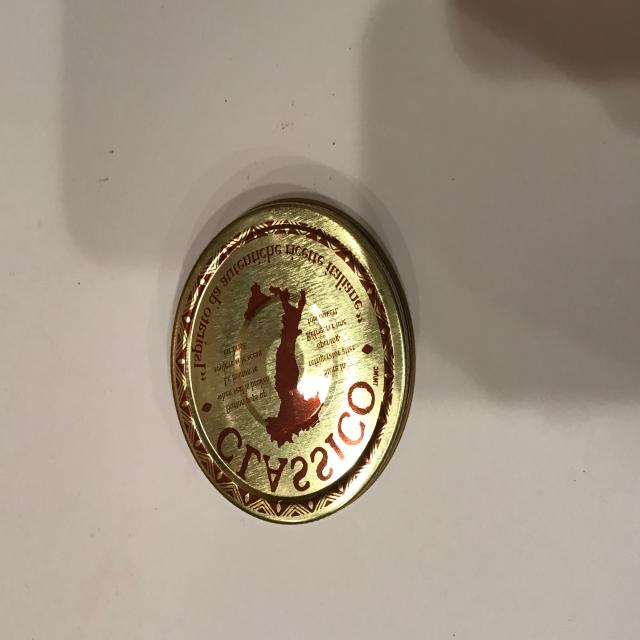metal: (170, 195, 417, 525)
